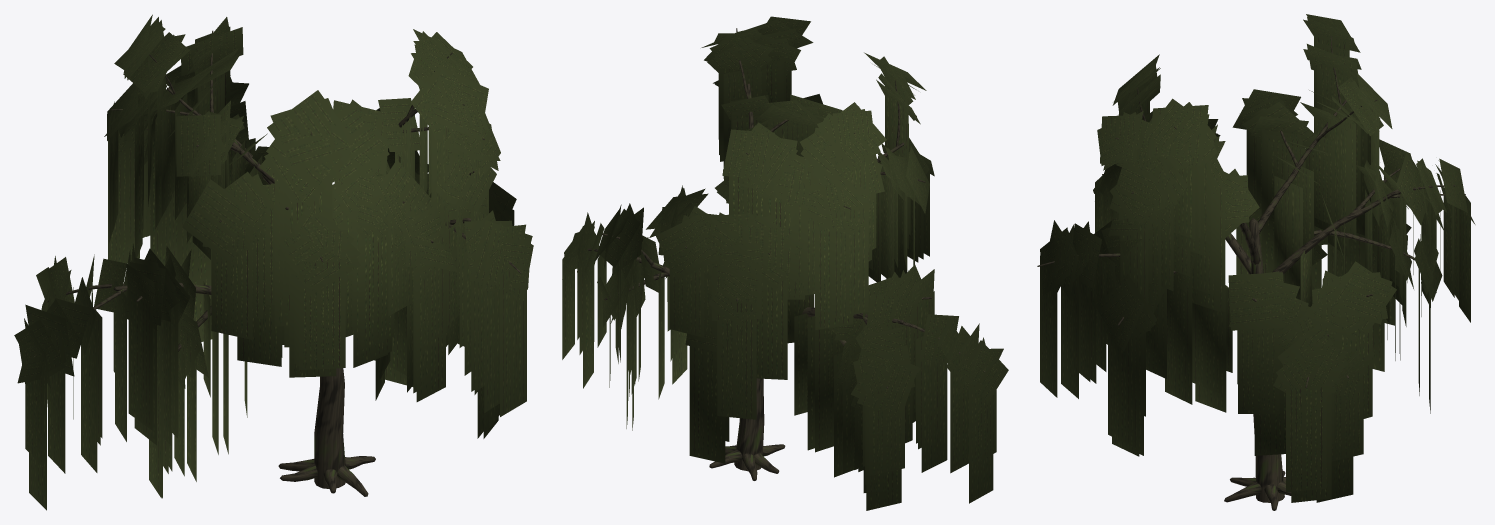
File: MarshWillow_2.gltf
3 renders of one model, left to right at view 1: azimuth 30°, elevation 25°; view 2: azimuth 150°, elevation 25°; view 3: azimuth 270°, elevation 25°, orthographic. The views are drawn at different scales.
Parts seen in each view (by area): view 1: MarshWillow_2; view 2: MarshWillow_2; view 3: MarshWillow_2.
Part boxes in pixels (<box>): MarshWillow_2: <box>14,14,533,510</box>; MarshWillow_2: <box>562,16,1008,510</box>; MarshWillow_2: <box>1037,14,1475,510</box>.
Bounding box in the file's own units: 14.46 × 13.39 × 12.82.
2 materials, 2 textured.
